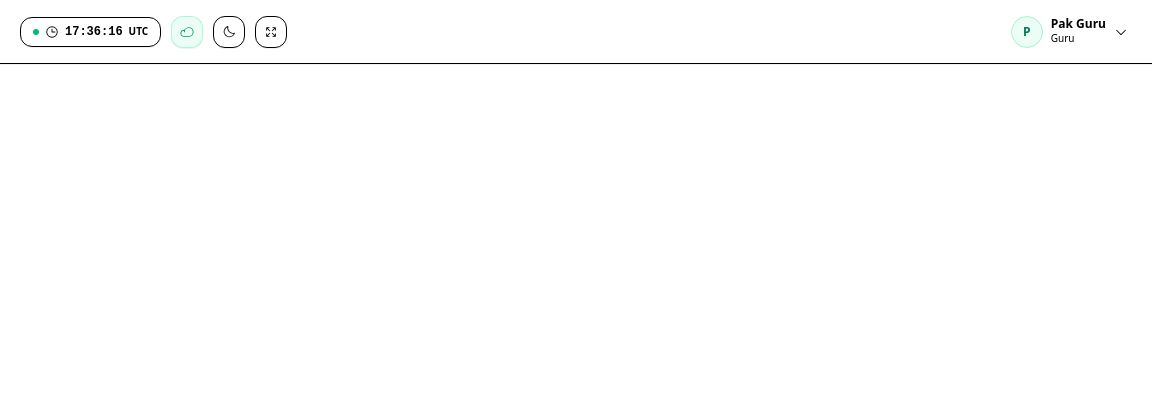
Header Administrator UX & Navigation Affordance › shows error advice when token claim verification fails with network error
Click the button "P Pak Guru Guru".
click(1069, 32)  # box [1007, 12, 1132, 52]
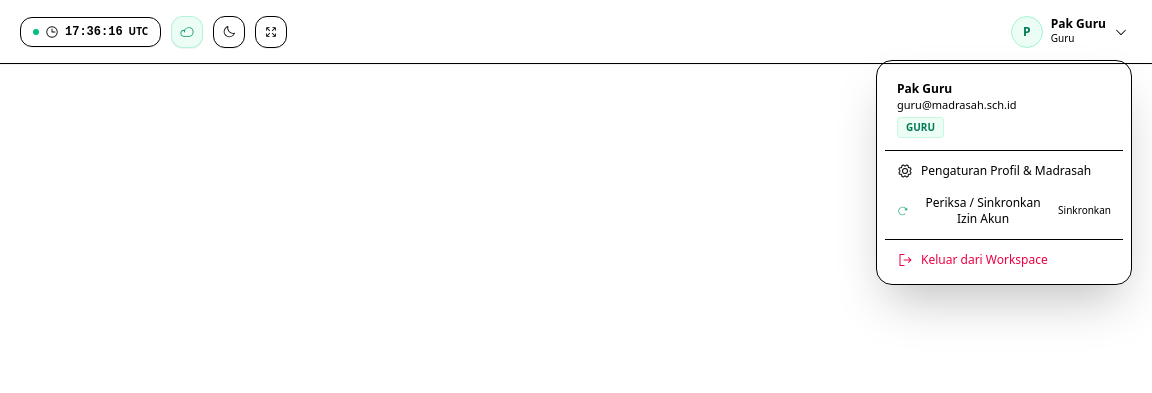
Click the button "Periksa / Sinkronkan Izin Akun Sinkronkan".
click(1004, 211)  # box [885, 187, 1123, 235]
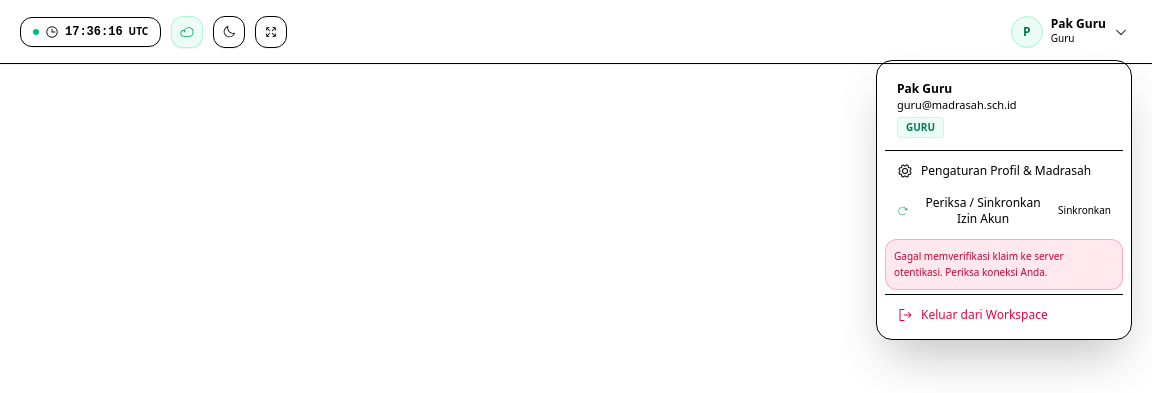
Expected: the text "Gagal memverifikasi klaim ke server otentikasi. Periksa koneksi Anda." is shown, [885, 239, 1123, 290]
